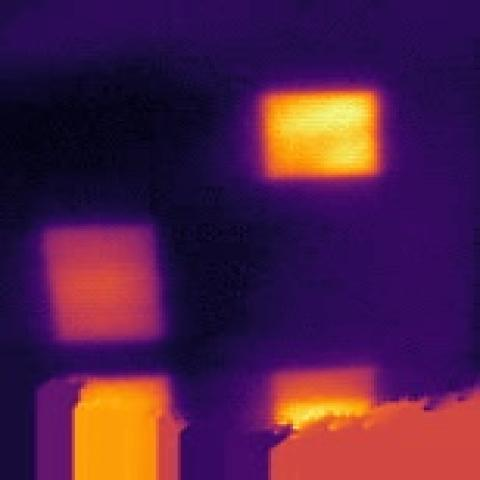fault: (33, 216, 174, 360), (253, 82, 391, 185), (56, 372, 182, 480), (253, 362, 391, 436)
